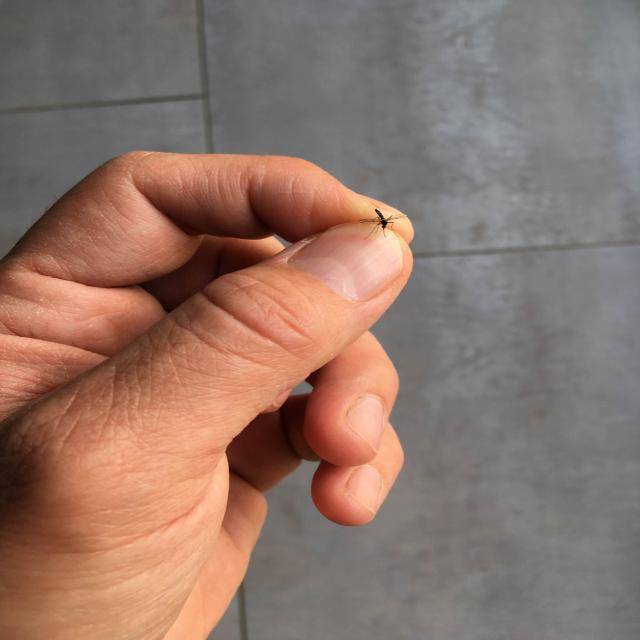albopictus: (351, 200, 412, 242)
